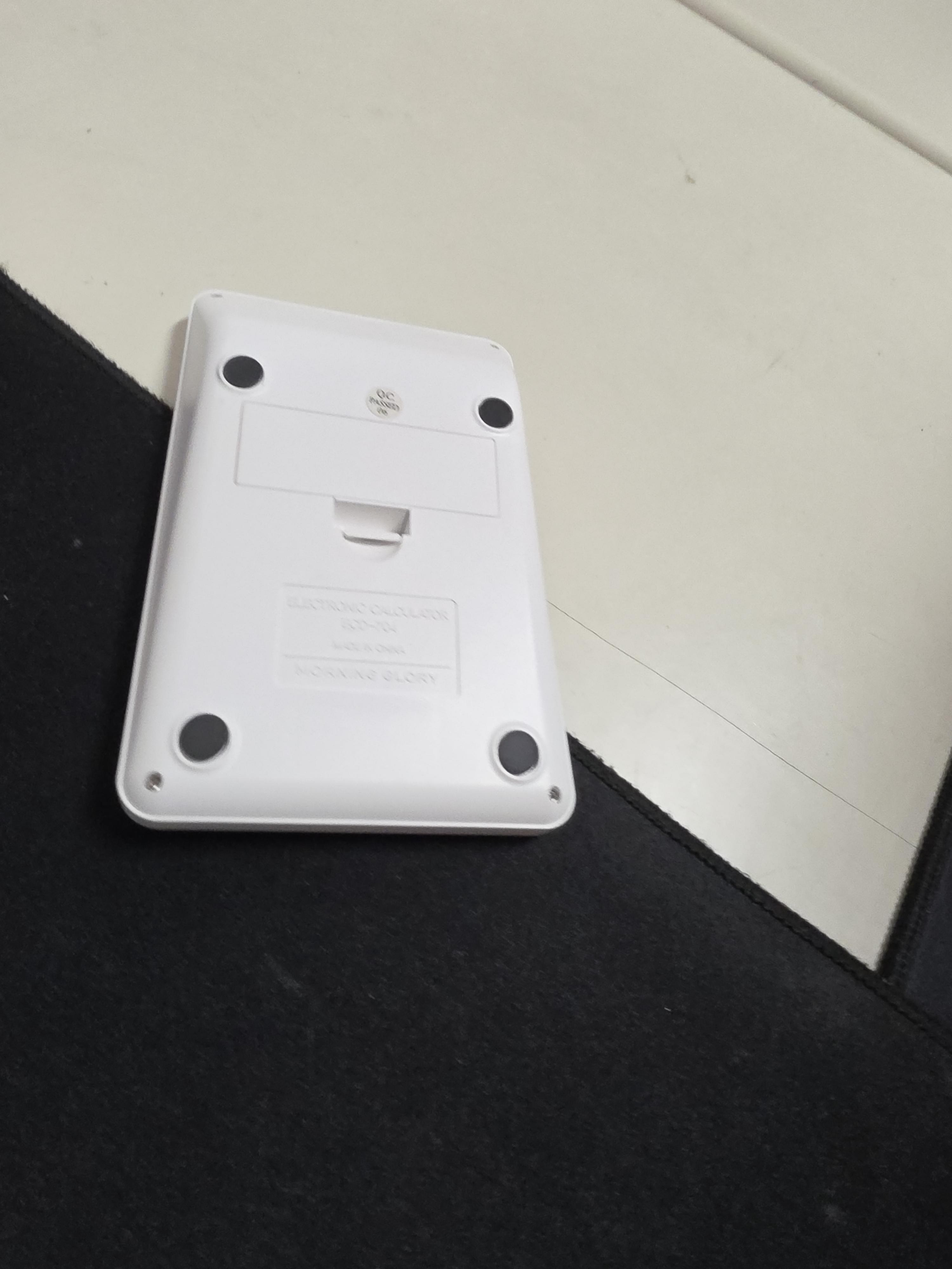calculator: (115, 289, 578, 835)
